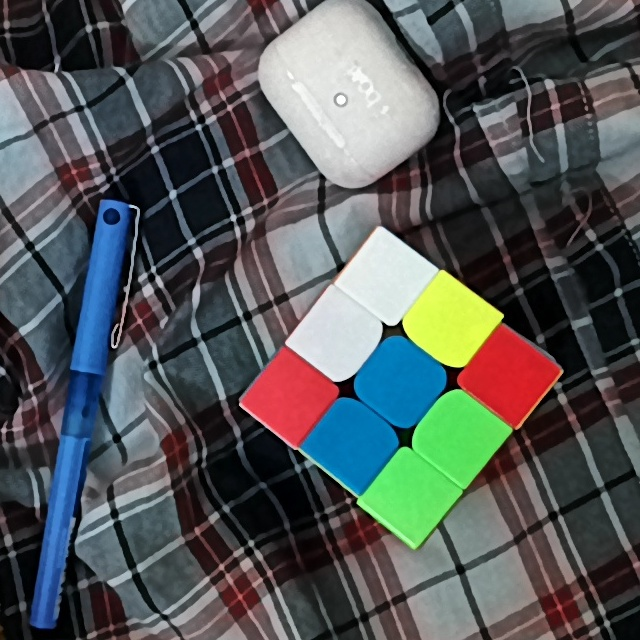tile: (374, 353, 428, 410), (356, 253, 418, 302), (432, 411, 487, 462), (387, 469, 440, 521), (311, 310, 364, 361), (327, 418, 377, 469), (428, 297, 476, 349), (485, 352, 537, 400), (267, 373, 314, 423)
